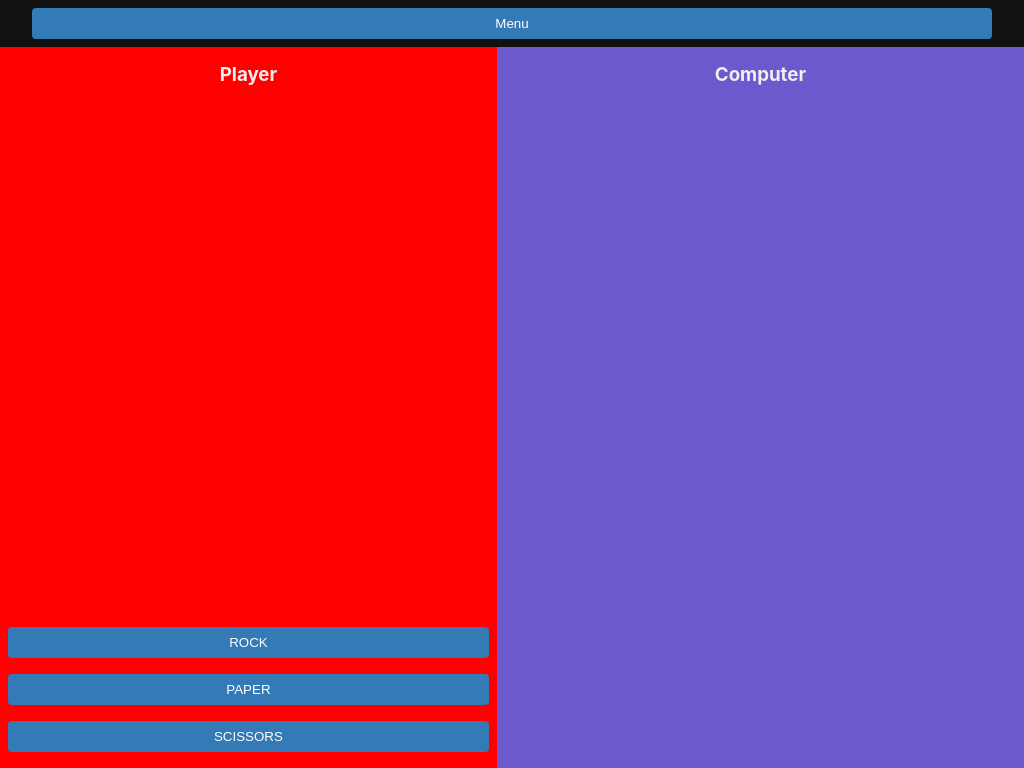
Test: player vs com › player vs com game has reset button when a round completes
What coordinates should you click on to do the following:
click the button "ROCK"
I would click on:
 (248, 642)
Its box is [8,627,489,658].
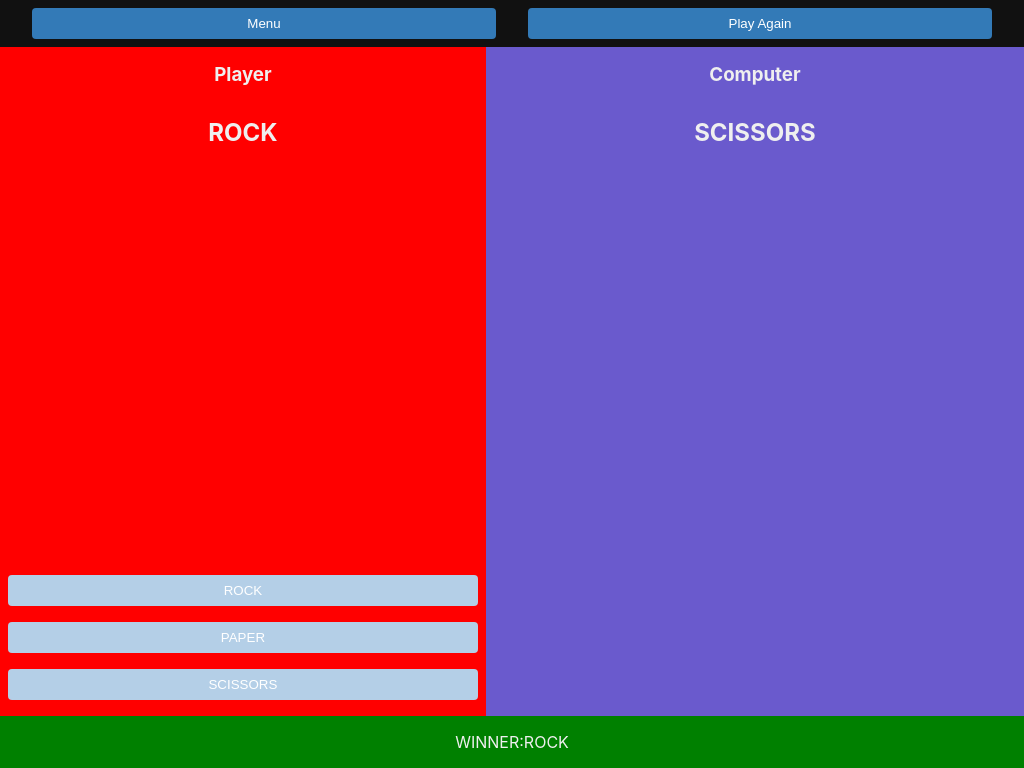
expect the button "Play Again" is shown: met, box [528,8,992,39]
